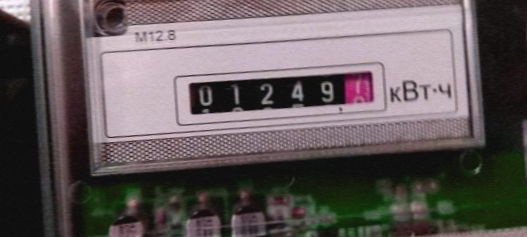0: (194, 82, 215, 109)
1: (226, 82, 243, 108)
2: (256, 82, 278, 109)
4: (289, 78, 308, 105)
7: (349, 73, 365, 97)
9: (318, 79, 337, 105)
screen: (165, 55, 402, 142)
